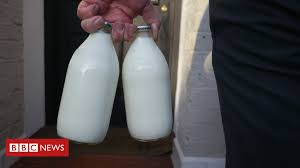milk: (122, 18, 172, 155), (58, 24, 115, 131)
